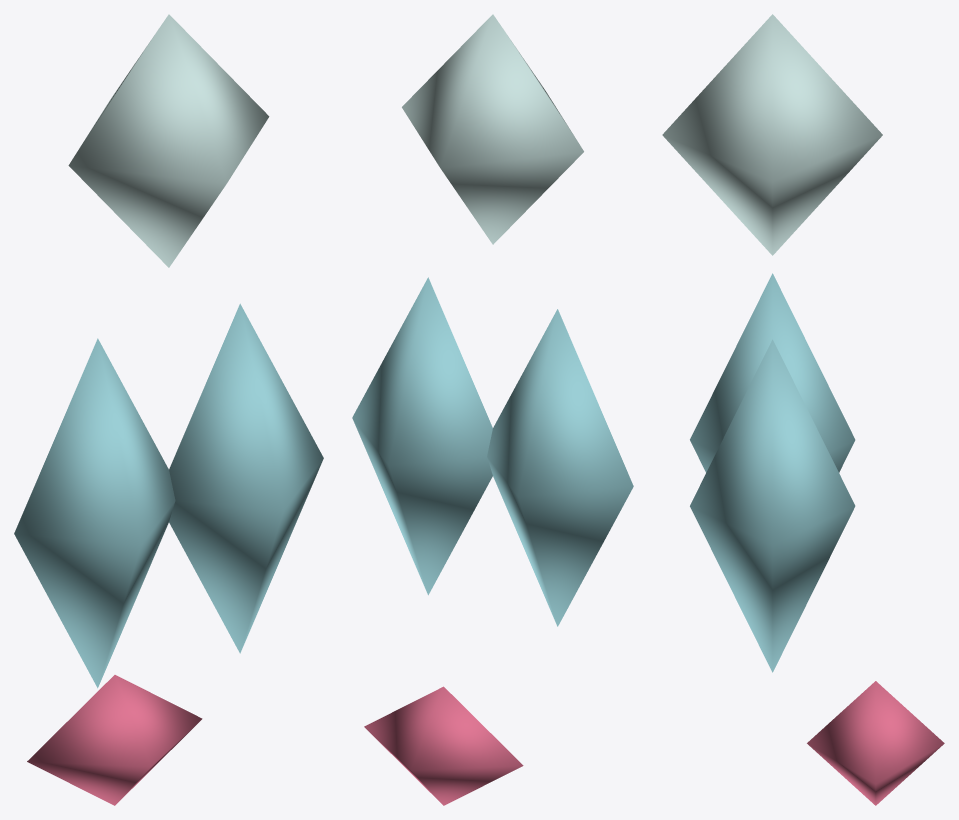
The model's file is atlas-static-v1.glb.
3 renders of one model, left to right at view 1: azimuth 30°, elevation 25°; view 2: azimuth 150°, elevation 25°; view 3: azimuth 270°, elevation 25°, orthographic. The views are drawn at different scales.
Parts seen in each view (by area): view 1: LeftFacet, RightFacet, CranialFacet, LumbarFacet; view 2: LeftFacet, RightFacet, CranialFacet, LumbarFacet; view 3: RightFacet, CranialFacet, LeftFacet, LumbarFacet.
Part boxes in pixels (x1,y1,x2,y2): LeftFacet: (14, 338, 175, 688); RightFacet: (169, 303, 323, 653); CranialFacet: (68, 14, 269, 267); LumbarFacet: (27, 675, 202, 805); LeftFacet: (487, 309, 633, 626); RightFacet: (352, 277, 492, 595); CranialFacet: (402, 14, 583, 244); LumbarFacet: (364, 686, 523, 805); RightFacet: (690, 339, 855, 672); CranialFacet: (662, 14, 882, 255); LeftFacet: (690, 273, 855, 472); LumbarFacet: (807, 681, 944, 805).
Bounding box in the file's own units: 0.37 × 0.949 × 0.307.
